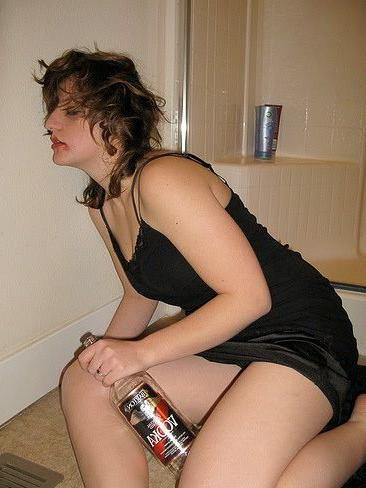Drunk: (40, 76, 103, 164)
